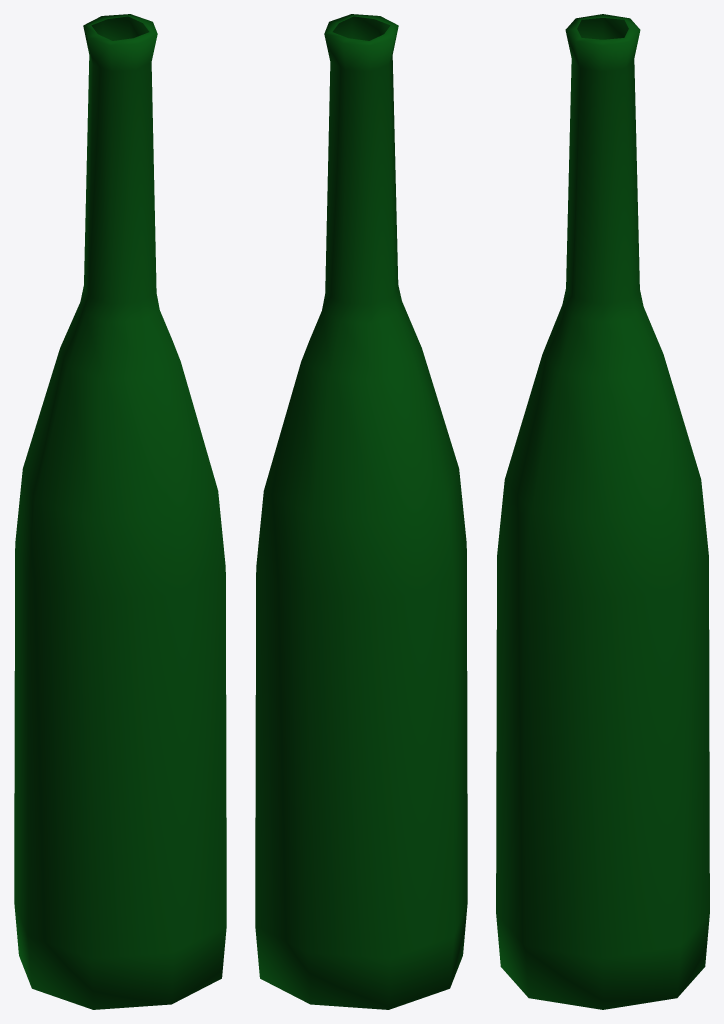
The model's file is Botella.fbx.
3 views of the same model, side by side, from view 1: azimuth 30°, elevation 25°; view 2: azimuth 150°, elevation 25°; view 3: azimuth 270°, elevation 25° (orthographic).
Parts seen in each view (by area): view 1: BOTELLA; view 2: BOTELLA; view 3: BOTELLA.
Boxes of the visible parts, left/top/right/bottom form: BOTELLA: left=14, top=14, right=226, bottom=1009; BOTELLA: left=255, top=14, right=467, bottom=1009; BOTELLA: left=496, top=14, right=709, bottom=1009.
Size of the model in its own units: 8.28 by 40.38 by 8.28.
